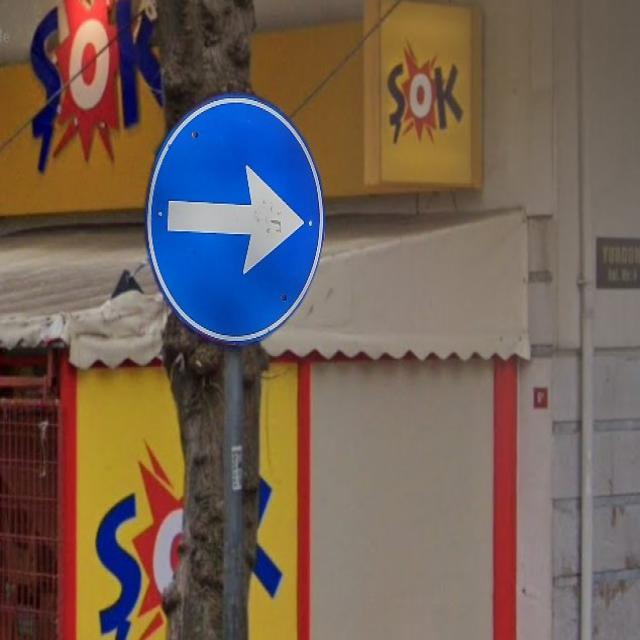Turn Right: (147, 97, 326, 340)
